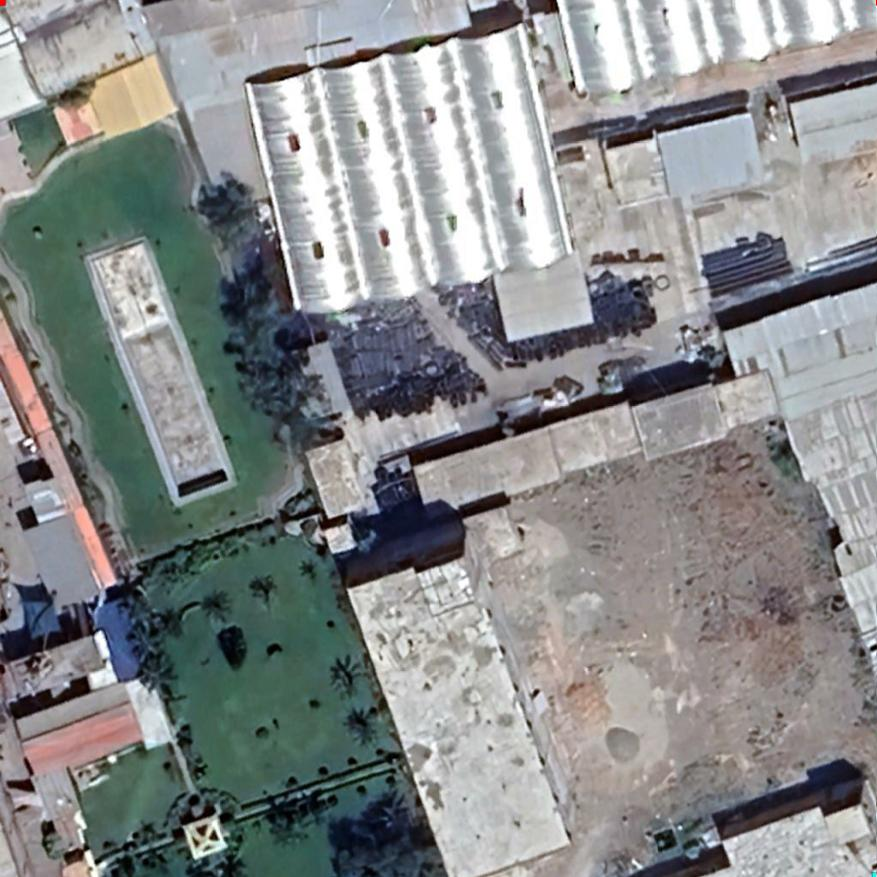Solarpanel: (696, 232, 798, 303)
